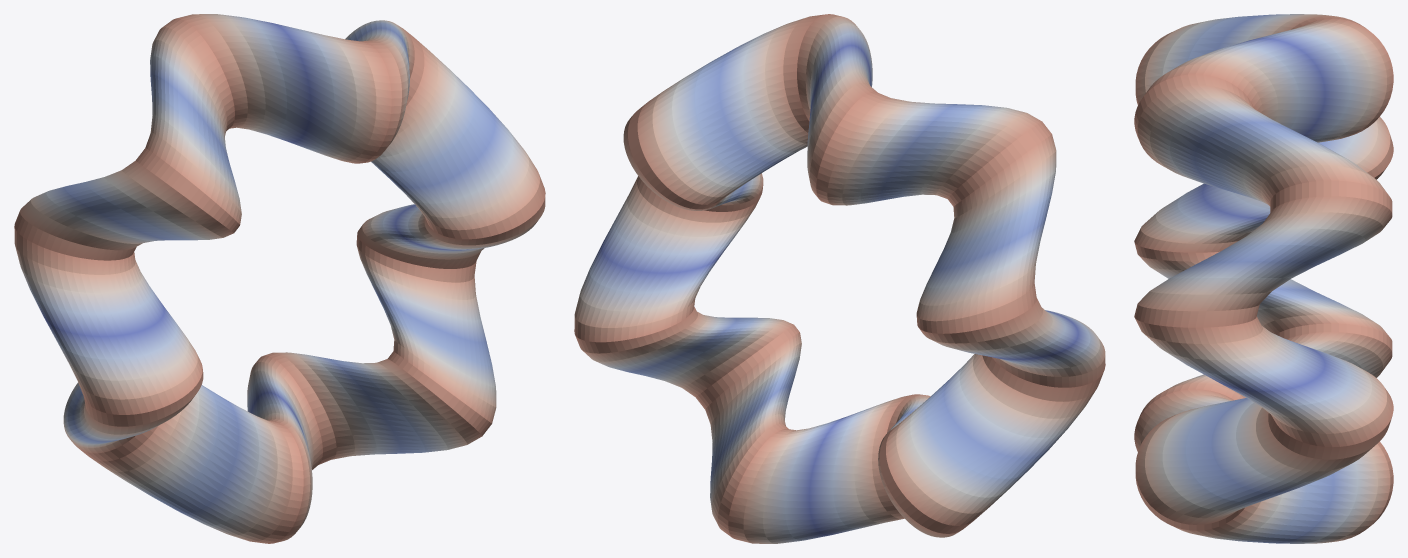
Rendered from step_16.glb.
3 renders of one model, left to right at view 1: azimuth 30°, elevation 25°; view 2: azimuth 150°, elevation 25°; view 3: azimuth 270°, elevation 25°, orthographic.
Parts seen in each view (by area): view 1: world; view 2: world; view 3: world.
Boxes of the visible parts, <box> form: world: <box>14,14,545,543</box>; world: <box>574,14,1105,543</box>; world: <box>1134,14,1393,543</box>.
Bounding box in the file's own units: 26 × 26 × 12.71.
